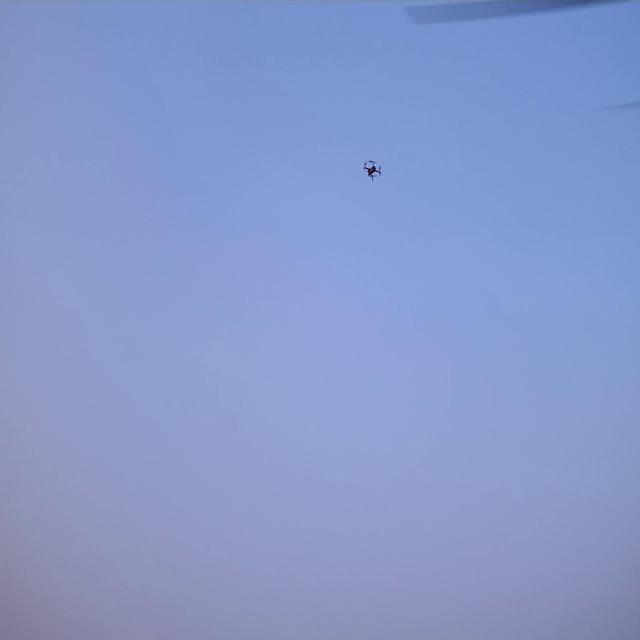UAV: (364, 161, 380, 178)
